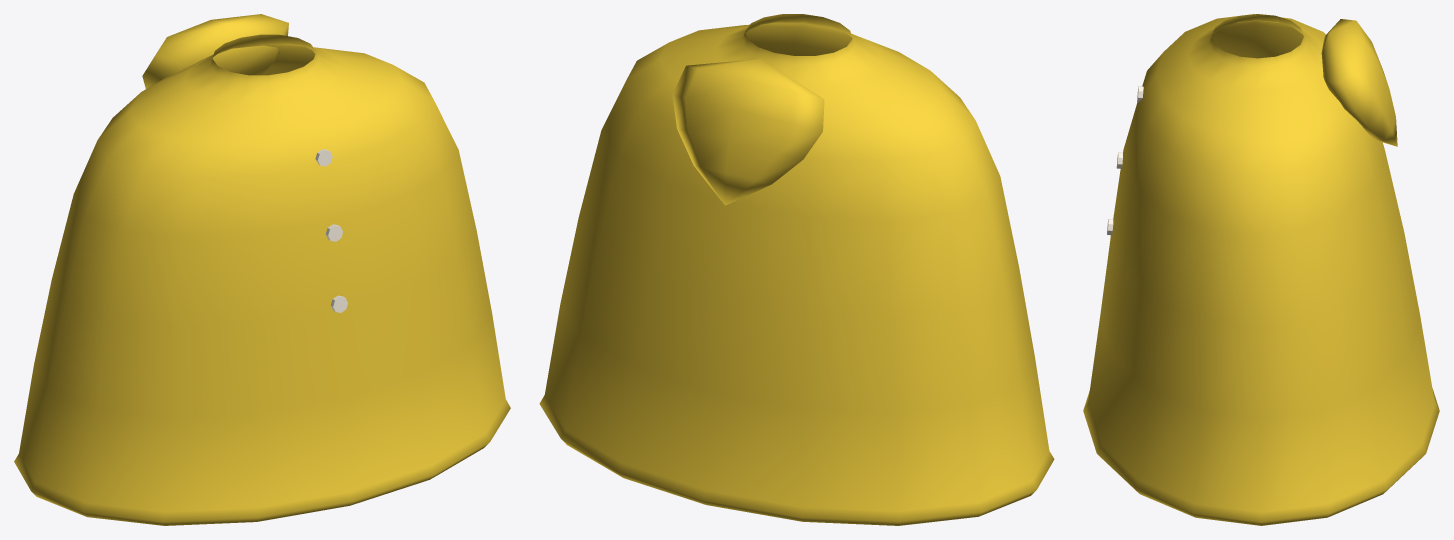
Rendered from outfit_poncho.glb.
3 renders of one model, left to right at view 1: azimuth 30°, elevation 25°; view 2: azimuth 150°, elevation 25°; view 3: azimuth 270°, elevation 25°, orthographic. The views are drawn at different scales.
Parts seen in each view (by area): view 1: outfit_poncho; view 2: outfit_poncho; view 3: outfit_poncho.
Part boxes in pixels (box(x1,y1,x2,y2)): outfit_poncho: box(14, 14, 510, 525); outfit_poncho: box(539, 14, 1054, 525); outfit_poncho: box(1083, 14, 1439, 525).
Bounding box in the file's own units: 0.86 × 0.6957 × 0.584.
